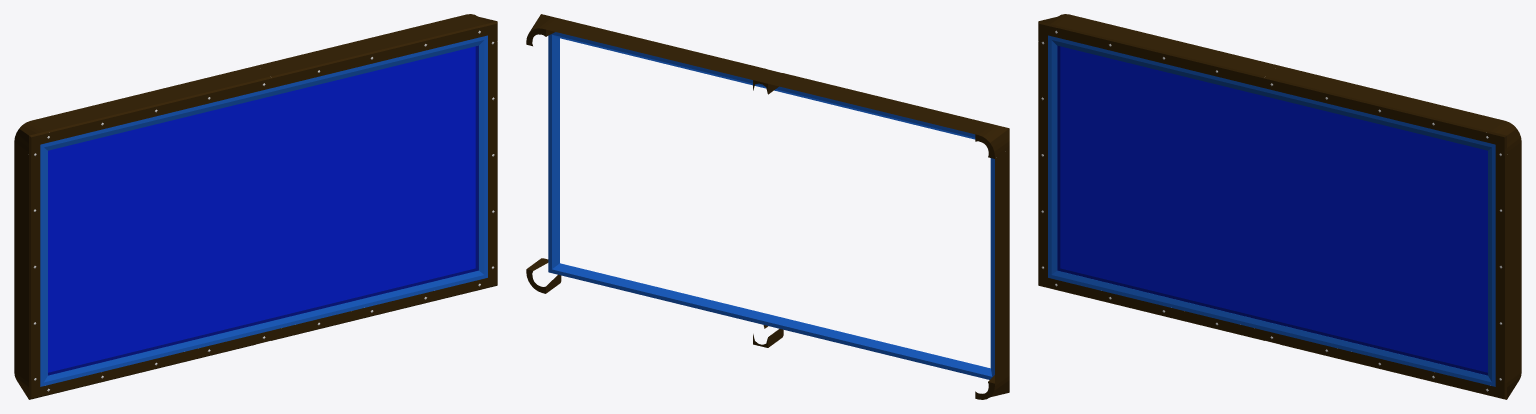
Rendered from threecushion.gltf.
3 renders of one model, left to right at view 1: azimuth 30°, elevation 25°; view 2: azimuth 150°, elevation 25°; view 3: azimuth 330°, elevation 25°, orthographic.
Visible parts, largest first — view 1: FullCloth, SideRail, EndRail, SideCushion, EndCushion, CornerMetal, Cube; view 2: SideCushion, SideRail, EndCushion, EndRail, CornerMetal, Cube; view 3: FullCloth, SideRail, EndRail, SideCushion, EndCushion, CornerMetal, Cube.
Boxes of the visible parts, <box> form: FullCloth: <box>48,45,478,375</box>; SideRail: <box>34,15,480,394</box>; EndRail: <box>14,42,497,380</box>; SideCushion: <box>40,35,487,386</box>; EndCushion: <box>40,36,487,386</box>; CornerMetal: <box>14,14,497,399</box>; Cube: <box>241,66,271,344</box>; SideCushion: <box>549,32,992,379</box>; SideRail: <box>546,19,989,328</box>; EndCushion: <box>548,34,994,376</box>; EndRail: <box>995,148,1009,383</box>; CornerMetal: <box>526,14,1009,399</box>; Cube: <box>753,69,783,347</box>; FullCloth: <box>1057,45,1487,375</box>; SideRail: <box>1055,15,1501,394</box>; EndRail: <box>1038,42,1521,380</box>; SideCushion: <box>1048,35,1495,386</box>; EndCushion: <box>1048,36,1495,386</box>; CornerMetal: <box>1038,14,1521,399</box>; Cube: <box>1264,66,1294,344</box>.
Bounding box in the file's own units: 50.11 × 27.01 × 2.93.
